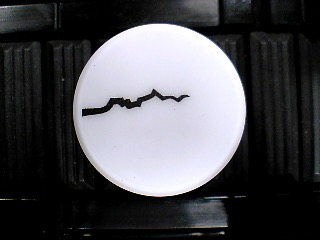CRACK: (72, 22, 247, 198)
